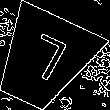L_SW: (16, 31, 71, 90)
